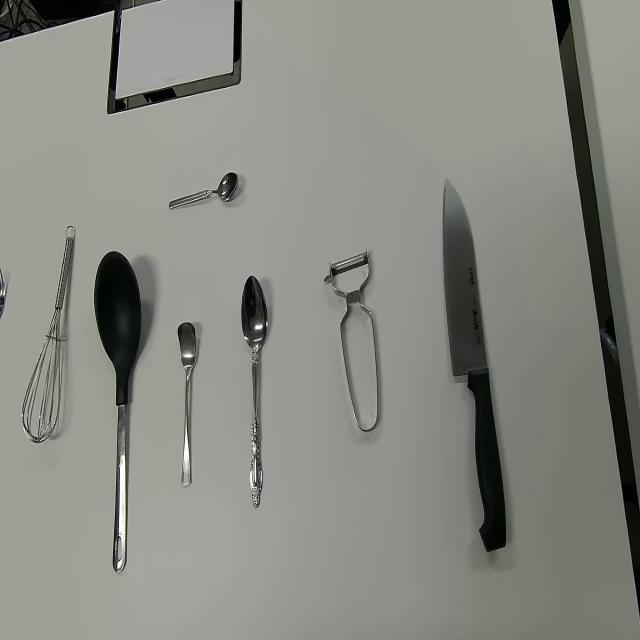Desert-Spoon: (241, 274, 269, 510)
Kitchen-Knife: (442, 175, 507, 552)
Peeler: (323, 248, 379, 432)
Serving-Spoon: (93, 250, 143, 574)
Tea-Spoon: (177, 320, 198, 488), (169, 170, 239, 213)
Whisk: (21, 223, 77, 444)
